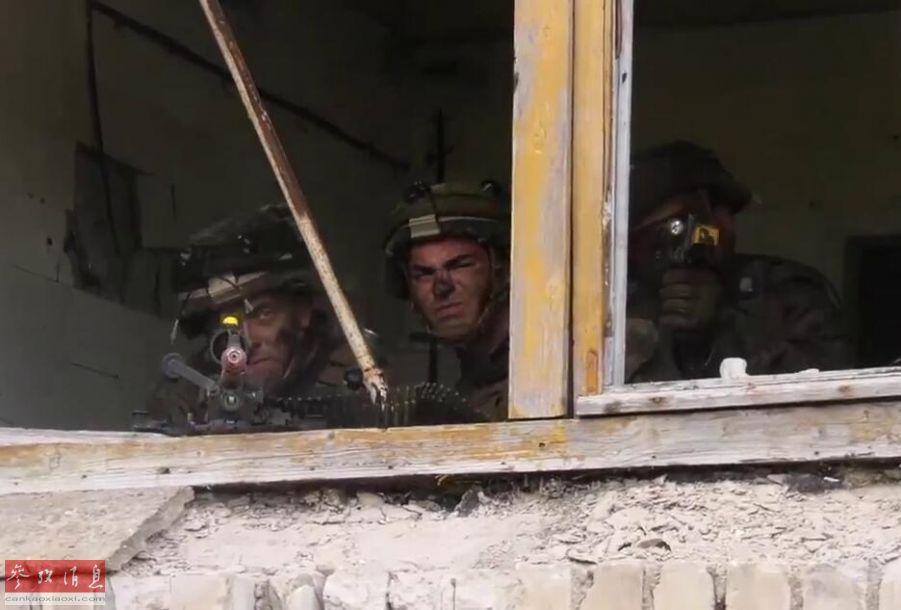face: (630, 197, 739, 291), (214, 292, 308, 390), (402, 245, 495, 337)
specialarea: (422, 264, 465, 286), (646, 226, 678, 249), (231, 312, 258, 339)
